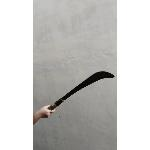Golok: (47, 68, 117, 112)
